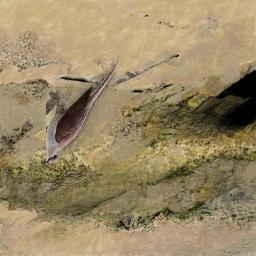Cuckoo: (46, 56, 122, 164)
